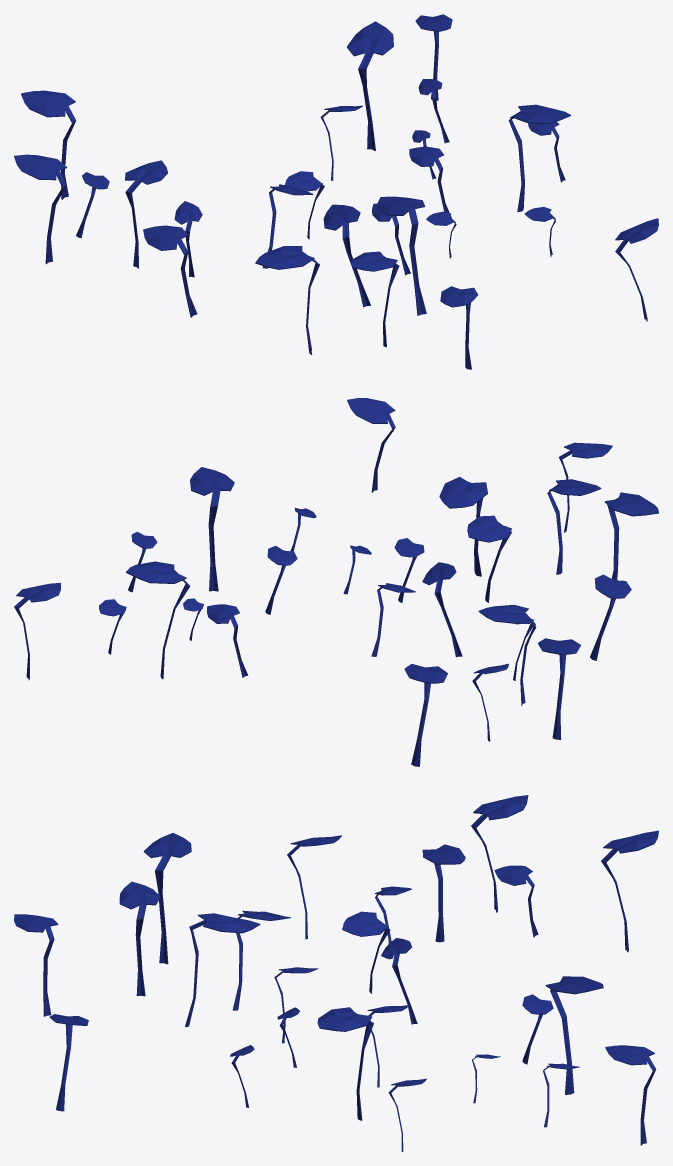
File: st3_plant6.fbx
The picture shows the model from 3 angles, top to bottom: view 1: azimuth 30°, elevation 25°; view 2: azimuth 150°, elevation 25°; view 3: azimuth 270°, elevation 25°; orthographic projection. The views are drawn at different scales.
Visible parts, largest first — view 1: stage3_map_object_leaves_2_small_; view 2: stage3_map_object_leaves_2_small_; view 3: stage3_map_object_leaves_2_small_.
Part boxes in pixels (x1,y1,x2,y2): stage3_map_object_leaves_2_small_: (14, 14, 658, 369); stage3_map_object_leaves_2_small_: (14, 398, 658, 766); stage3_map_object_leaves_2_small_: (14, 795, 658, 1151).
Bounding box in the file's own units: 535 × 116 × 574.
